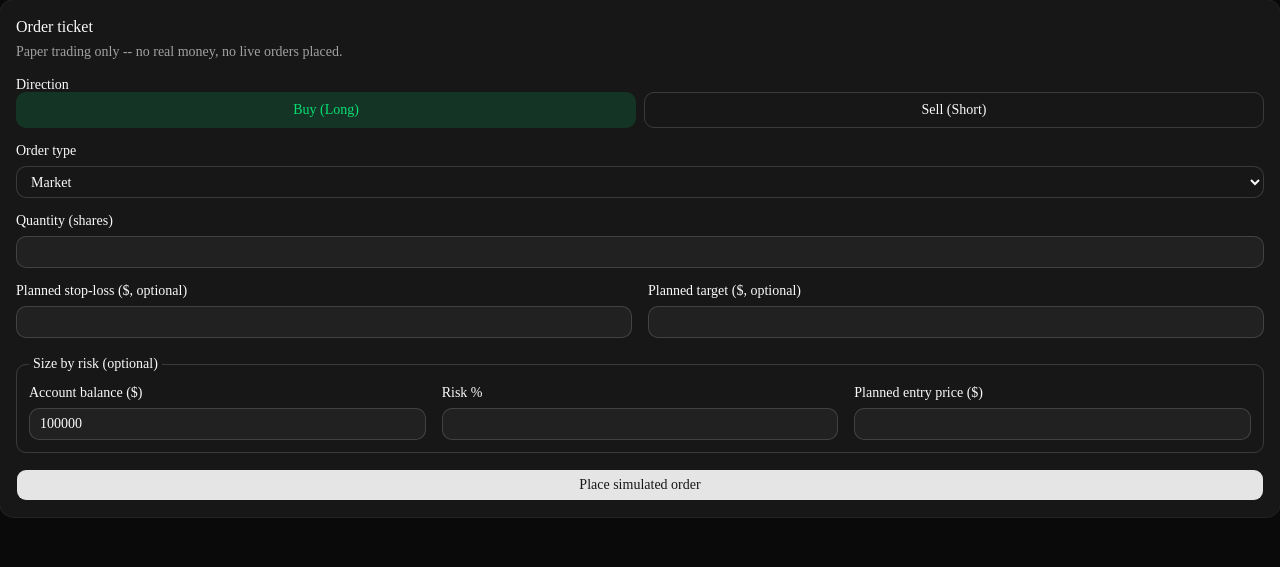
OrderTicket -- size by risk › caps risk at 5% and says so
Type "49" into the field labelled "Planned stop-loss ($, optional)" at (324, 322), box [16, 306, 632, 338]
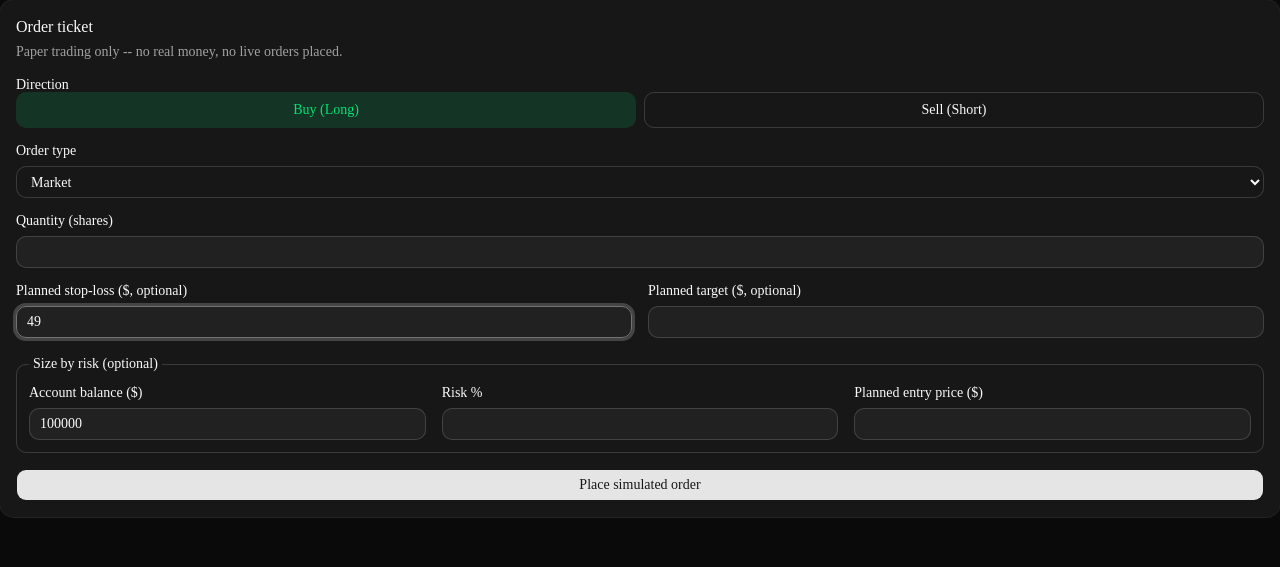
Type "10" into the field labelled "Risk %" at (640, 424), box [442, 408, 838, 440]
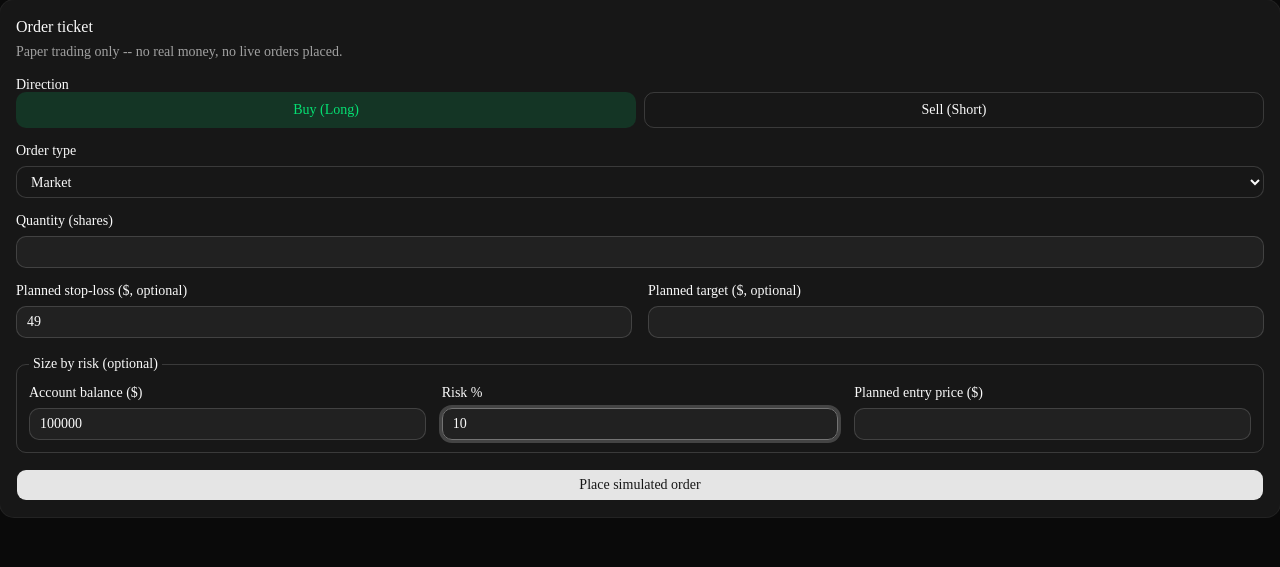
Type "50" into the field labelled "Planned entry price ($)" at (1053, 424), box [854, 408, 1251, 440]
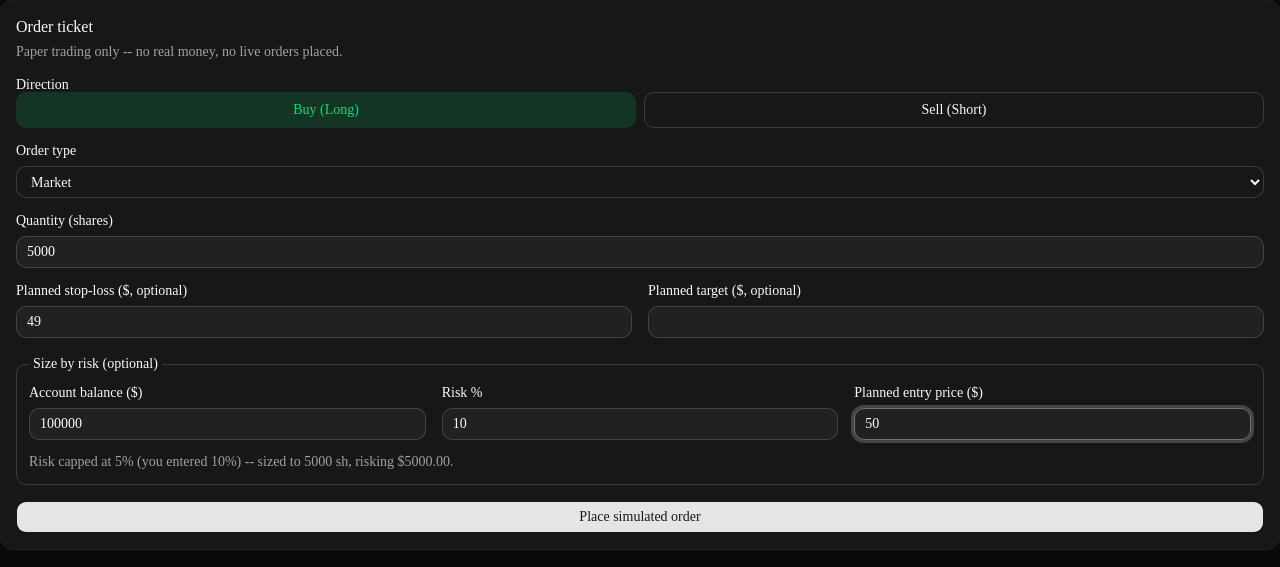
Now the field labelled "Quantity (shares)" holds "5000", box [16, 236, 1264, 268]
Now the message reads "Risk capped at 5% (you entered 10%) -- sized to 5000 sh, risking $5000.00.", box [29, 454, 454, 469]
